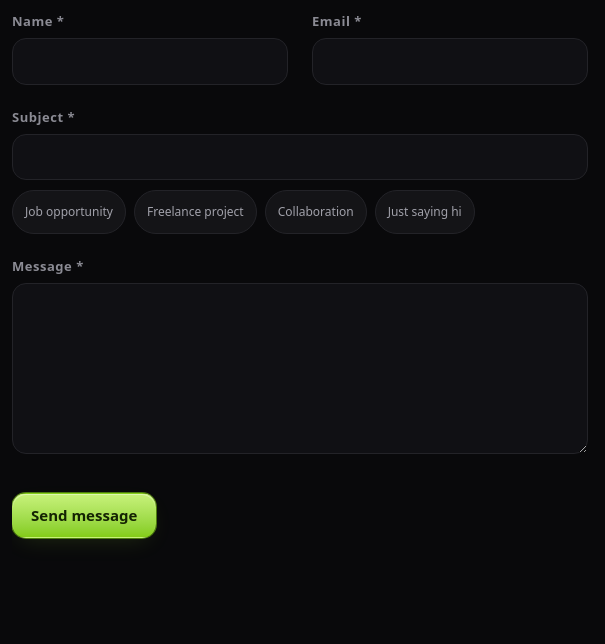
Test case: ContactForm › shows field errors and does not submit when empty
Step 1. Click the button "Send message" → {"x": 84, "y": 515}, box [12,493,156,538]
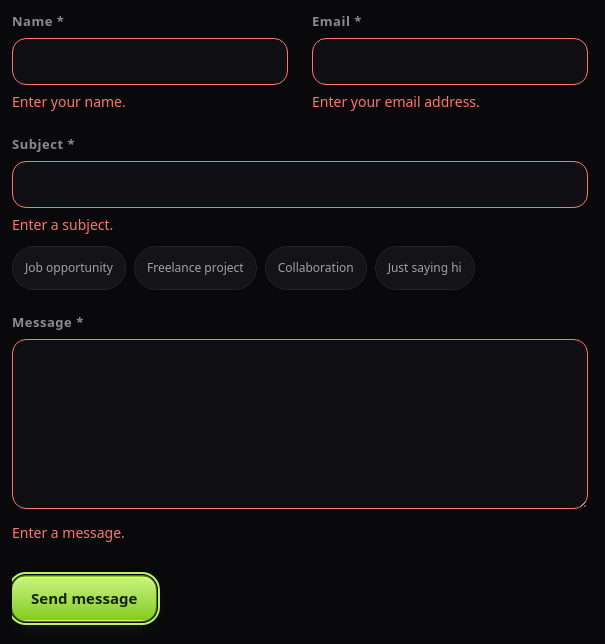
Expected: the text "Enter your name." is shown, [12,92,126,111]
Expected: the text "Enter your email address." is shown, [312,92,480,111]
